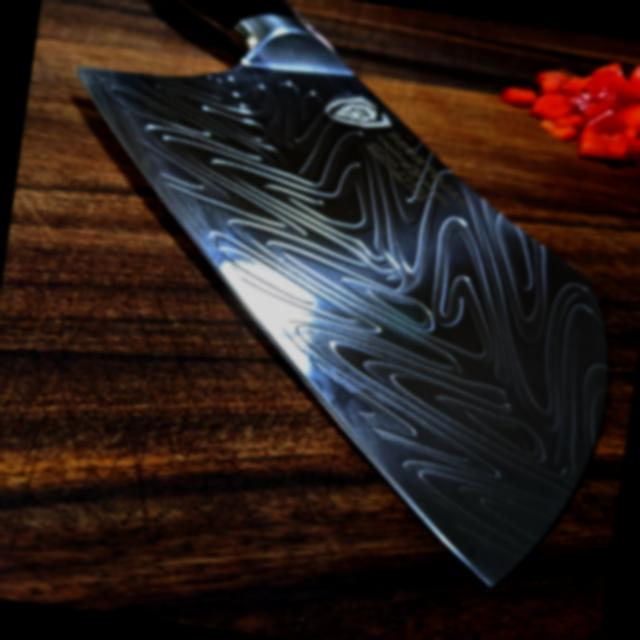cleaver: (23, 0, 640, 594)
